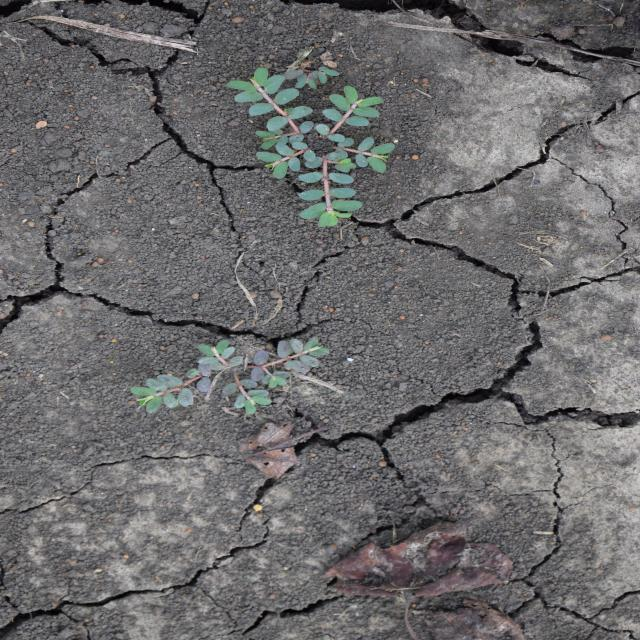SpottedSpurge: (226, 62, 397, 230), (128, 336, 332, 418)
